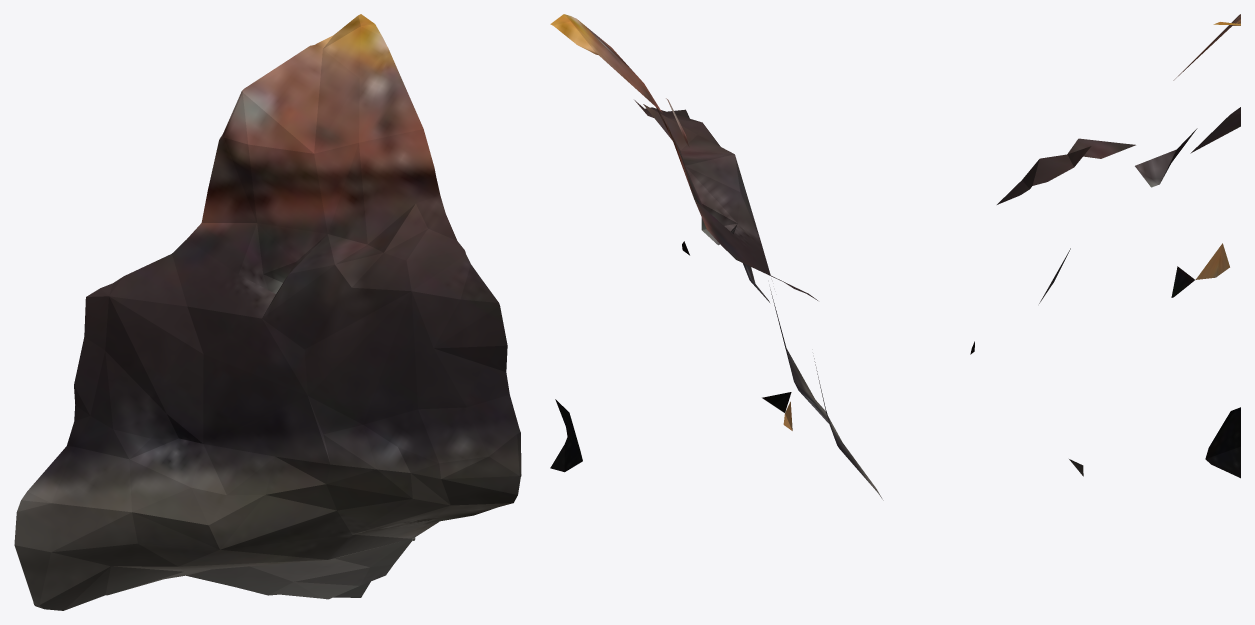
3 views of the same model, side by side, from view 1: azimuth 30°, elevation 25°; view 2: azimuth 150°, elevation 25°; view 3: azimuth 270°, elevation 25° (orthographic). The views are drawn at different scales.
Bounding box in the file's own units: 0.2572 × 0.4142 × 0.2061.
Materials: 1 (1 with a texture image).
